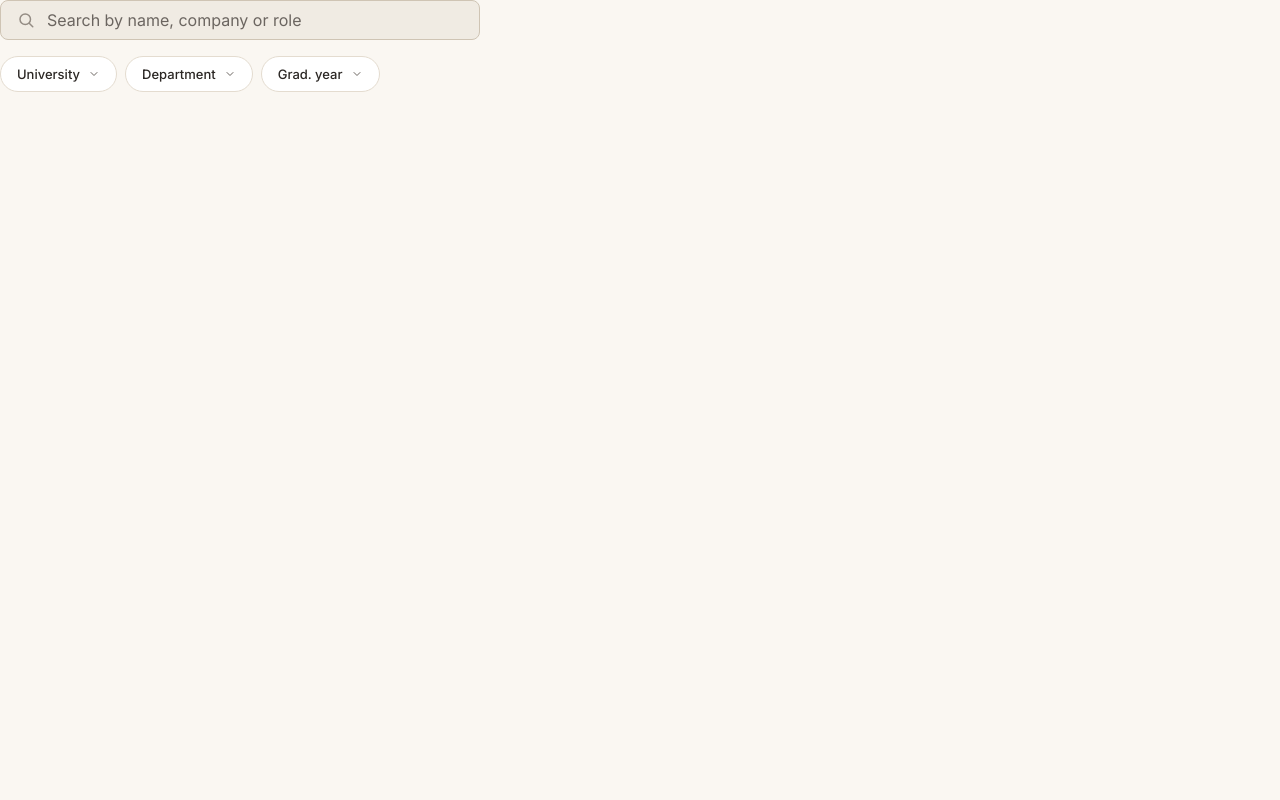
Test: FilterBar › sets University with Enter: URL, chip, page reset and focus on the chip remove button
Click the button "University" at {"x": 59, "y": 74}, box [0, 56, 117, 92]
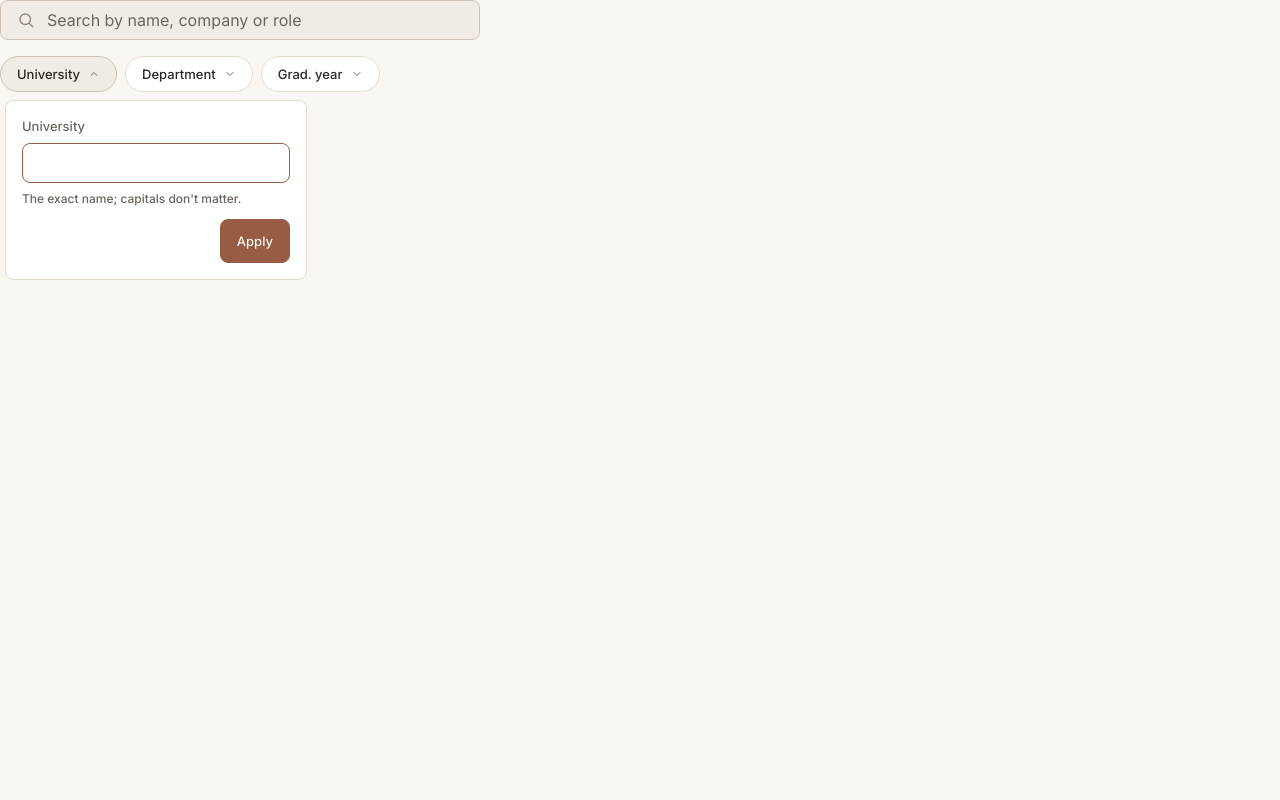
Type "Oslo University" into the field labelled "University" at {"x": 156, "y": 163}, box [22, 143, 290, 183]
Then press Enter
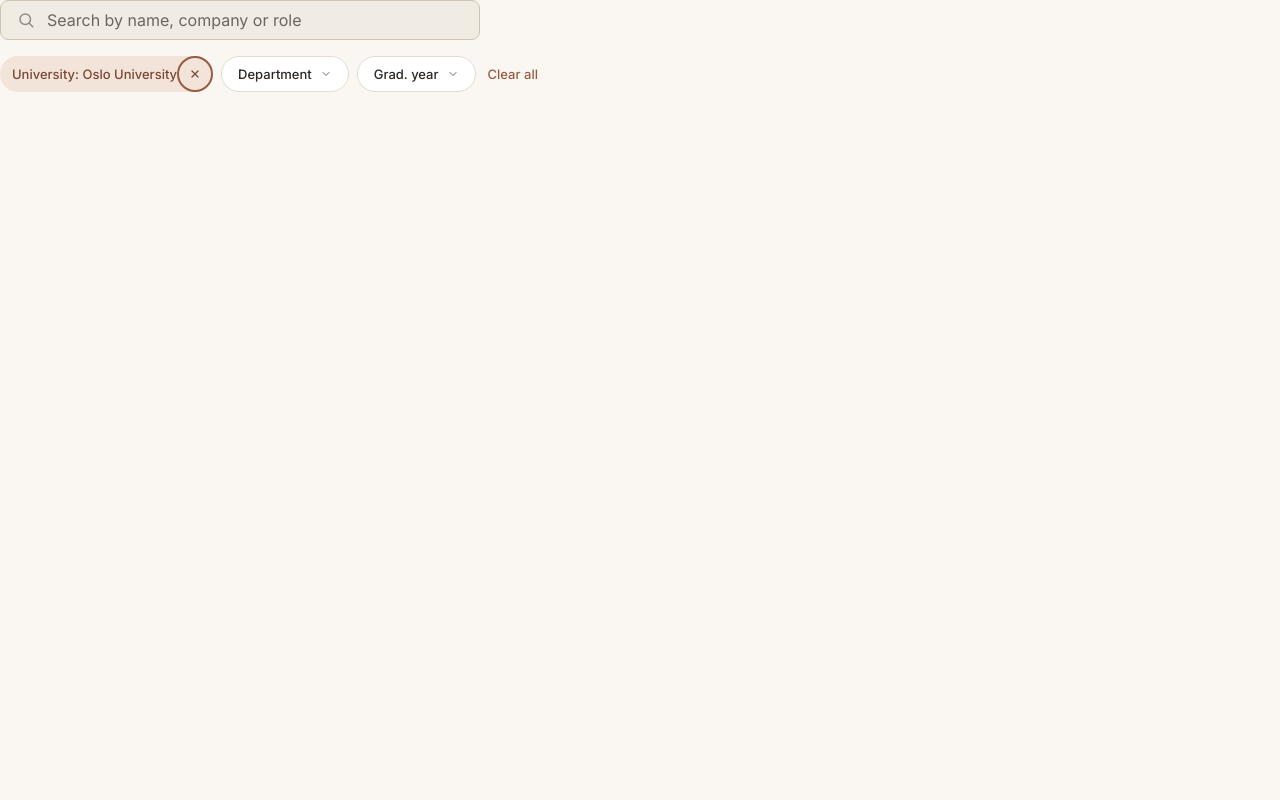
Check: the dialog is gone
